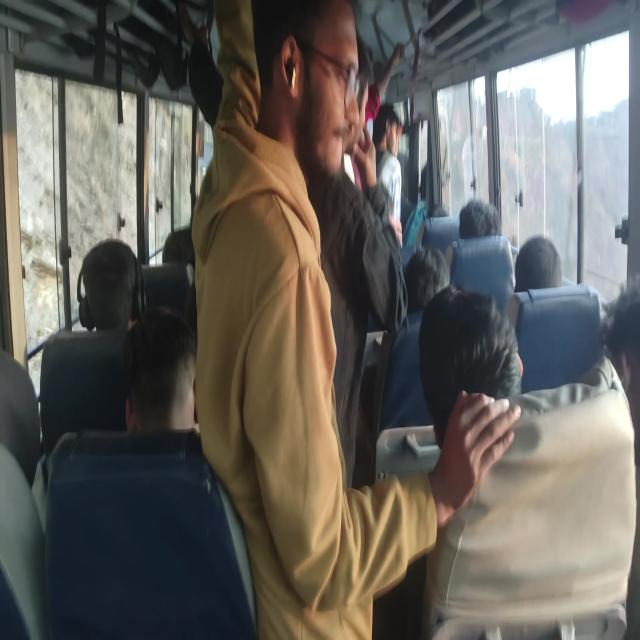person: (191, 0, 522, 638), (418, 283, 636, 638), (44, 306, 257, 638), (307, 33, 407, 489), (418, 283, 524, 449), (123, 305, 199, 433), (76, 237, 146, 332), (371, 103, 403, 245), (514, 234, 562, 292)
